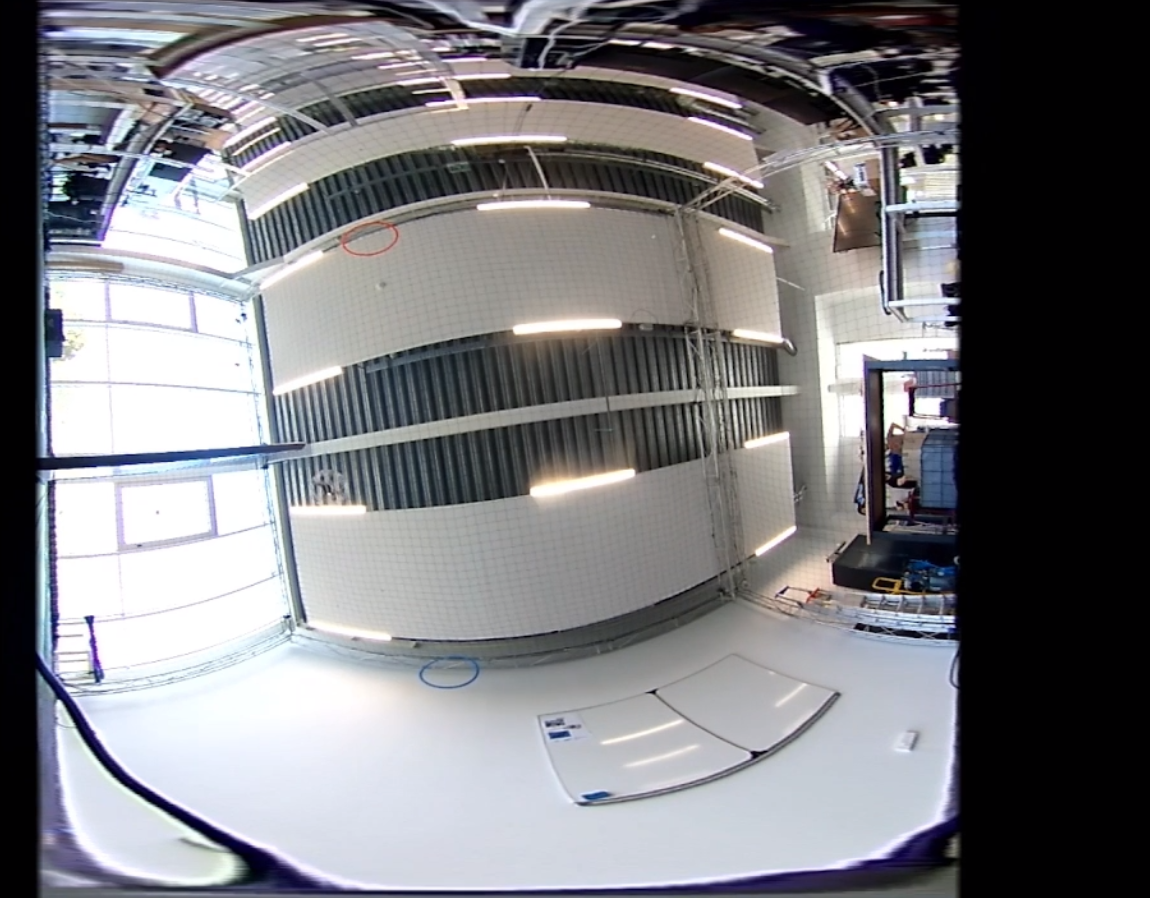Drone: (299, 463, 353, 515)
